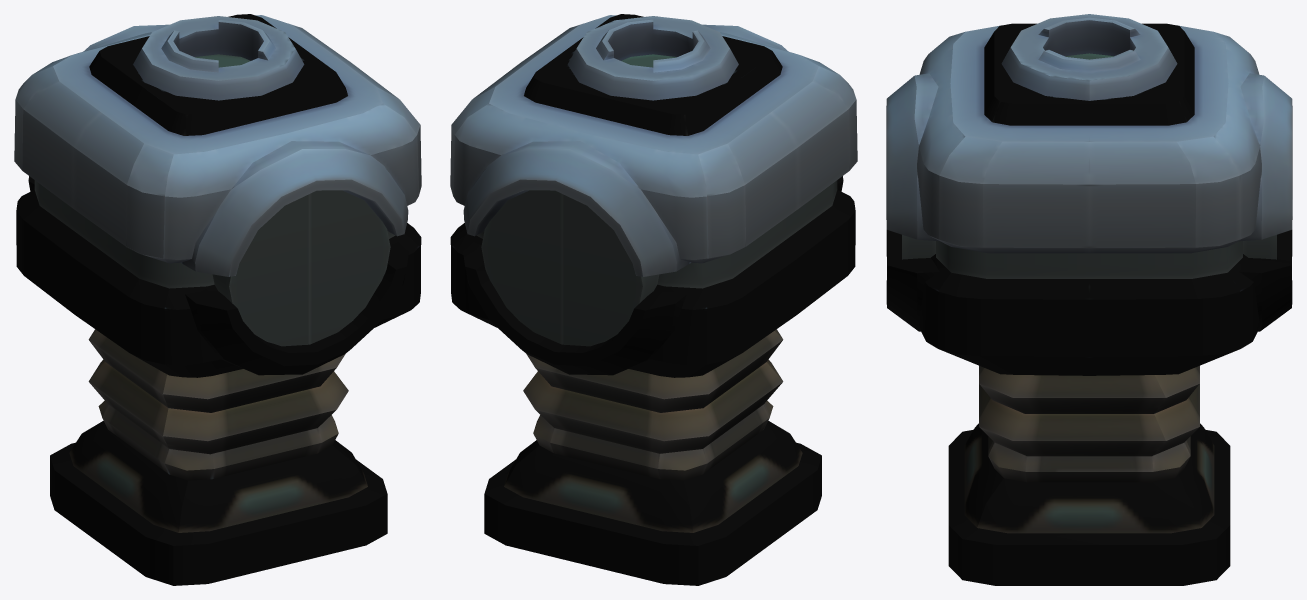
The model's file is obj_interactive_pipepump.fbx.
3 views of the same model, side by side, from view 1: azimuth 30°, elevation 25°; view 2: azimuth 150°, elevation 25°; view 3: azimuth 270°, elevation 25° (orthographic). The views are drawn at different scales.
Parts seen in each view (by area): view 1: obj_interactive_pump; view 2: obj_interactive_pump; view 3: obj_interactive_pump.
Boxes of the visible parts, x1=… form: obj_interactive_pump: x1=14, y1=14, x2=421, y2=585; obj_interactive_pump: x1=450, y1=14, x2=857, y2=585; obj_interactive_pump: x1=886, y1=14, x2=1292, y2=585.
Size of the model in its own units: 2.44 by 3.81 by 2.89.
